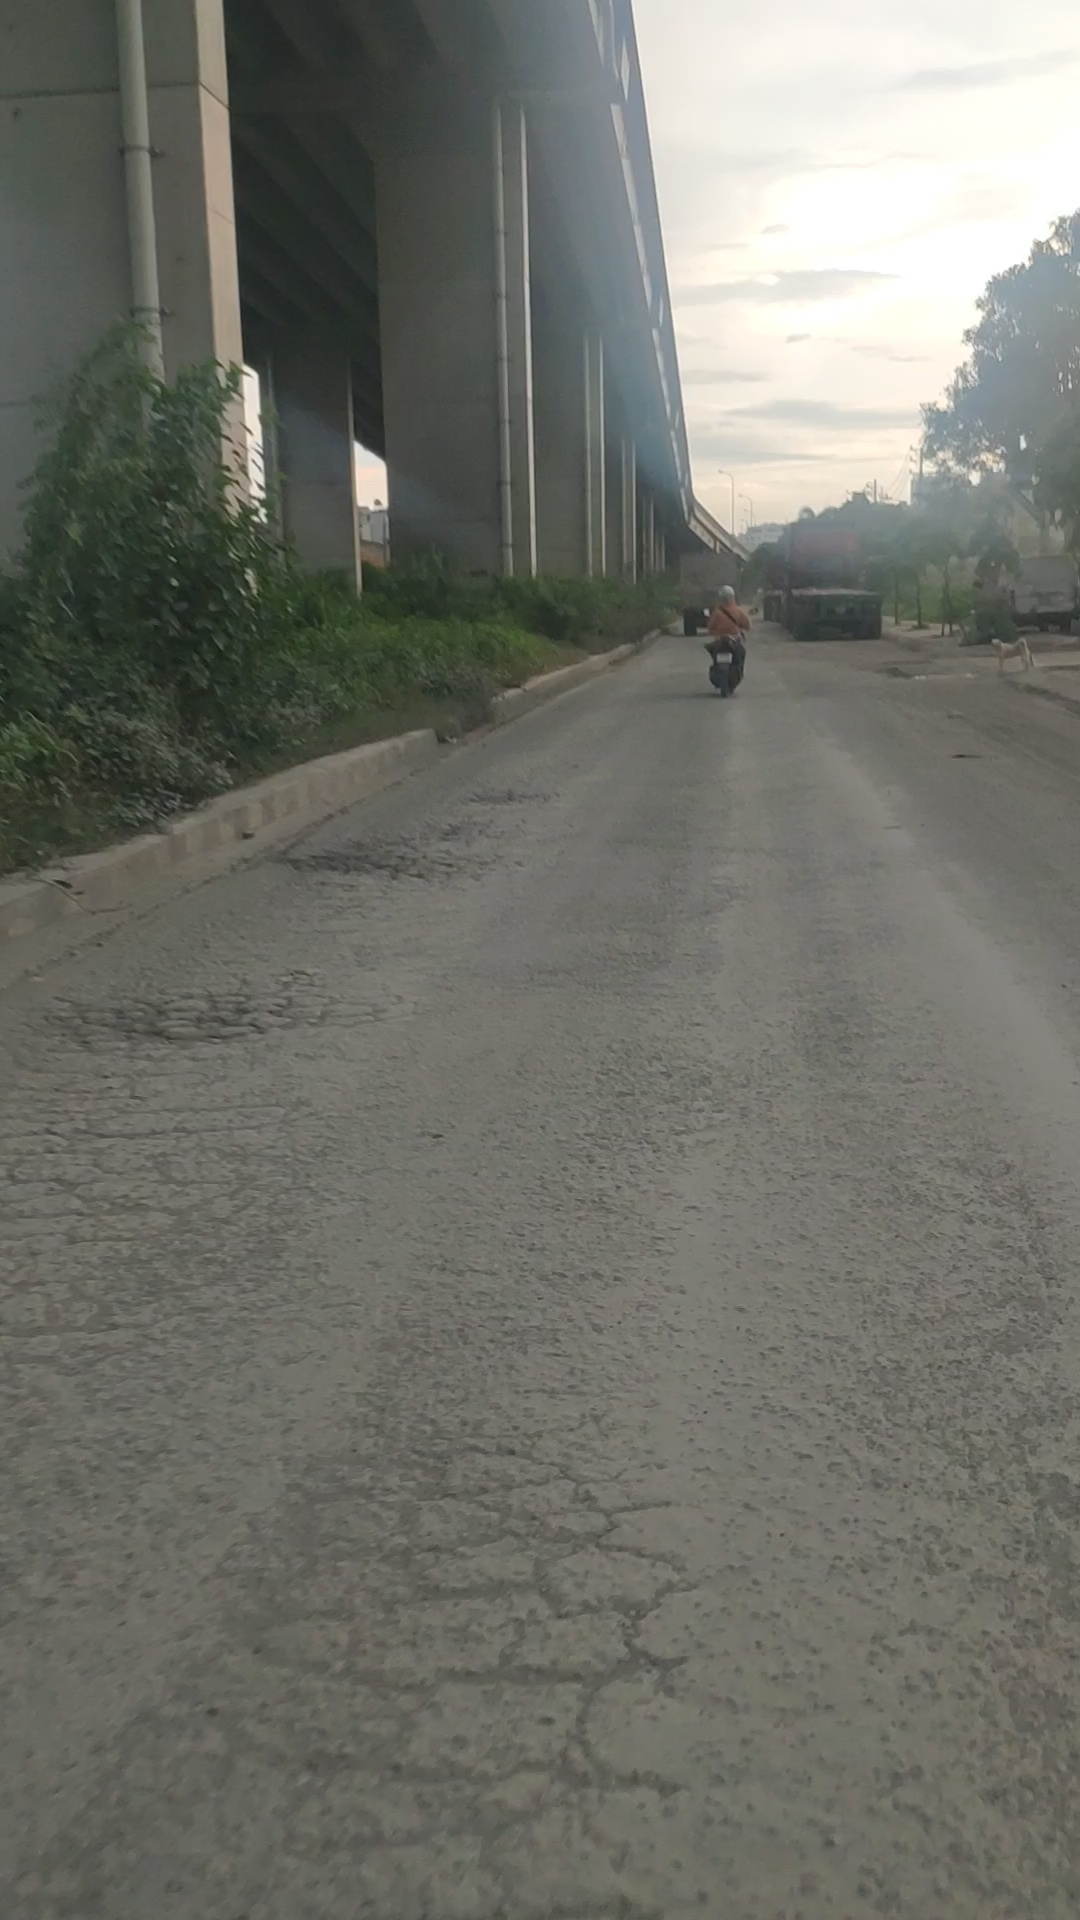hole: (272, 818, 509, 881), (458, 783, 562, 810)
